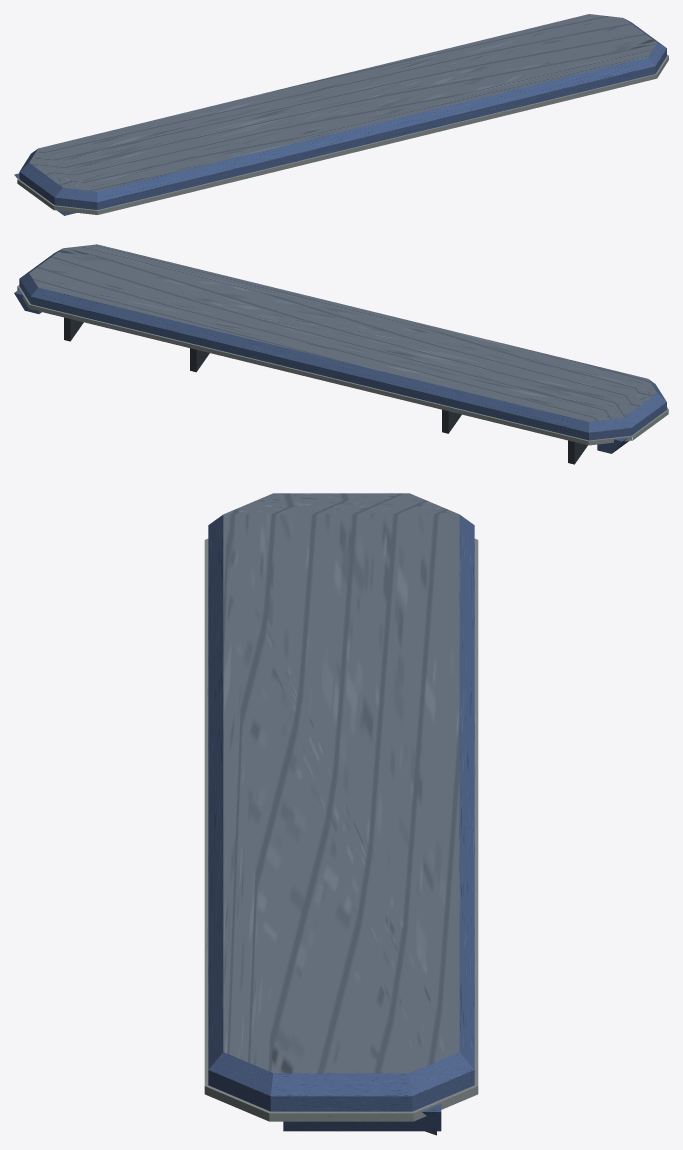
Rendered from ReceptionCanopy.fbx.
3 views of the same model, one above another, from view 1: azimuth 30°, elevation 25°; view 2: azimuth 150°, elevation 25°; view 3: azimuth 270°, elevation 25° (orthographic). The views are drawn at different scales.
Parts seen in each view (by area): view 1: ReceptionCanopy; view 2: ReceptionCanopy; view 3: ReceptionCanopy.
Boxes of the visible parts, x1,y1,x2,y2 form: ReceptionCanopy: (14,14,668,215); ReceptionCanopy: (14,244,668,464); ReceptionCanopy: (204,493,478,1135).
Size of the model in its own units: 1709 by 137 by 329.
